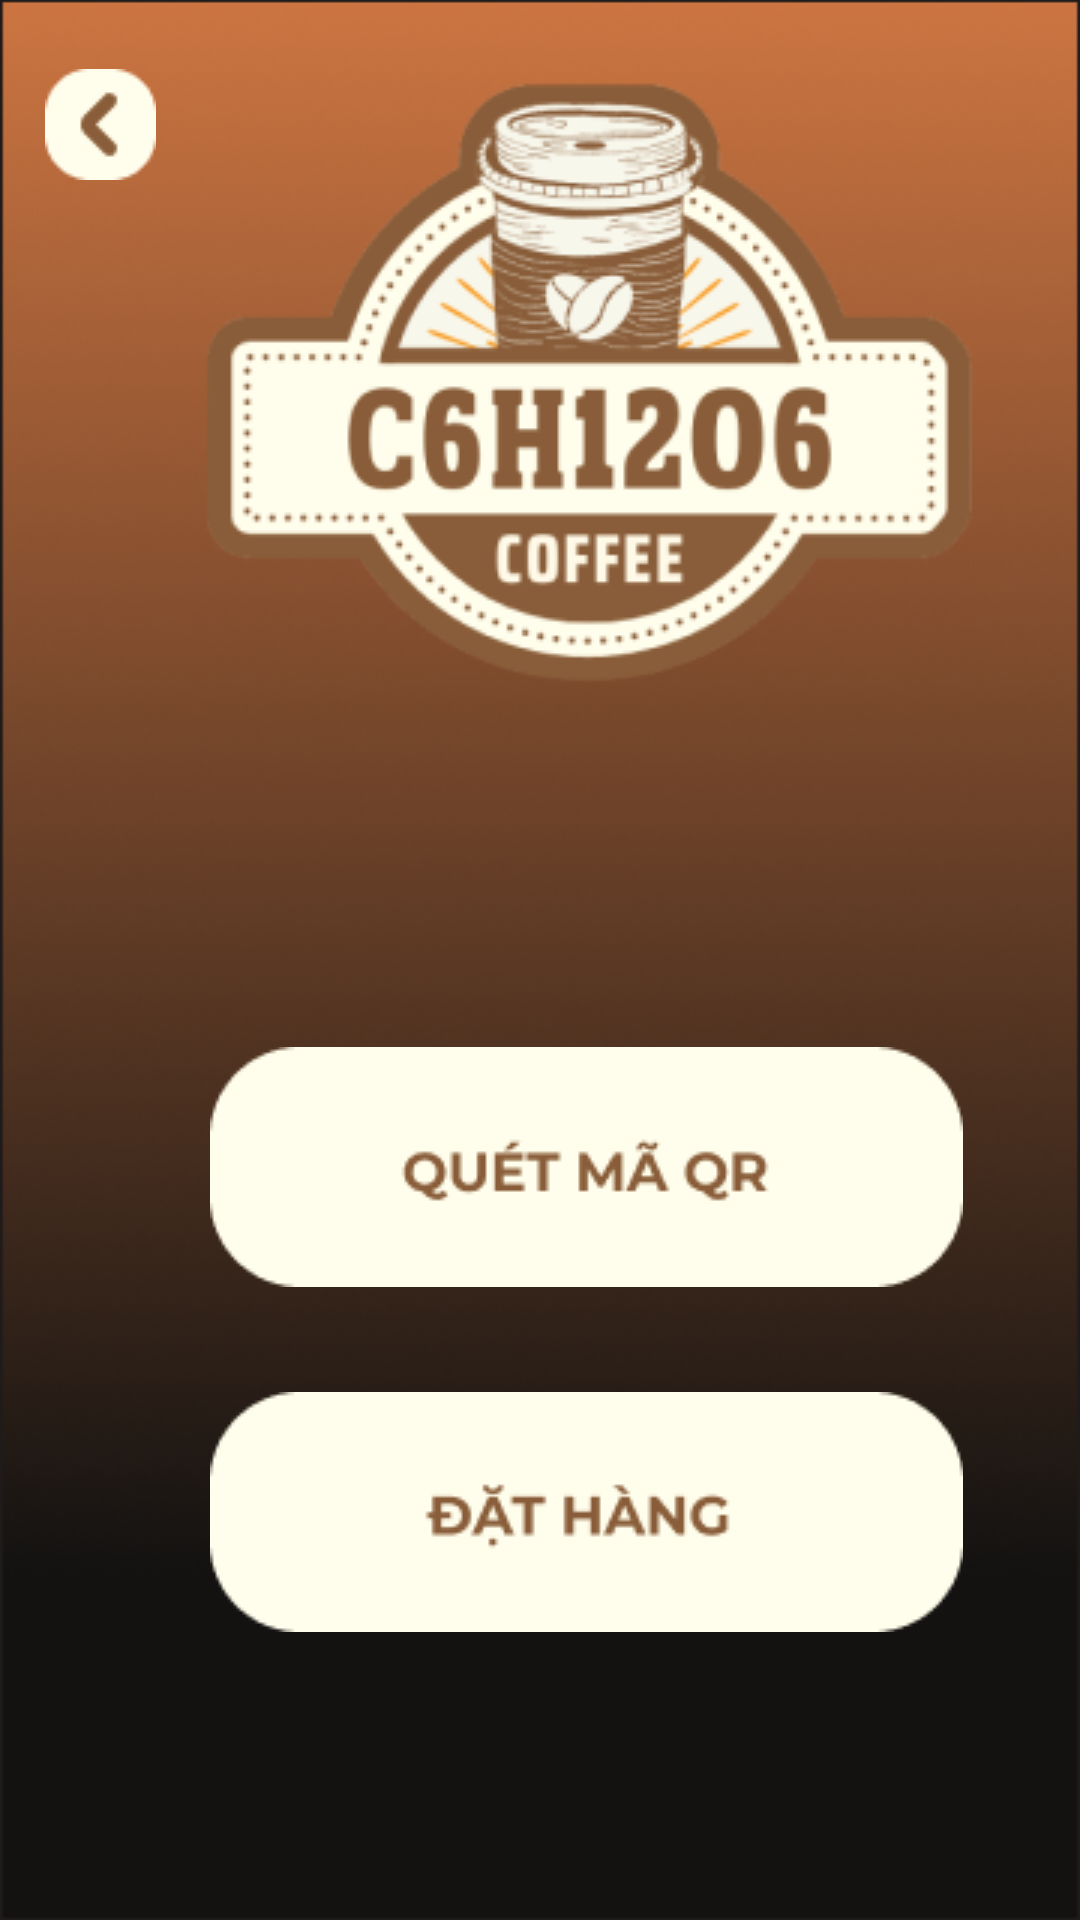

Named icons in this screenshot (1080px×1920px) and their bounding boxes, bbox(x1, y1, x2, y2):
back: bbox(45, 69, 156, 180)
